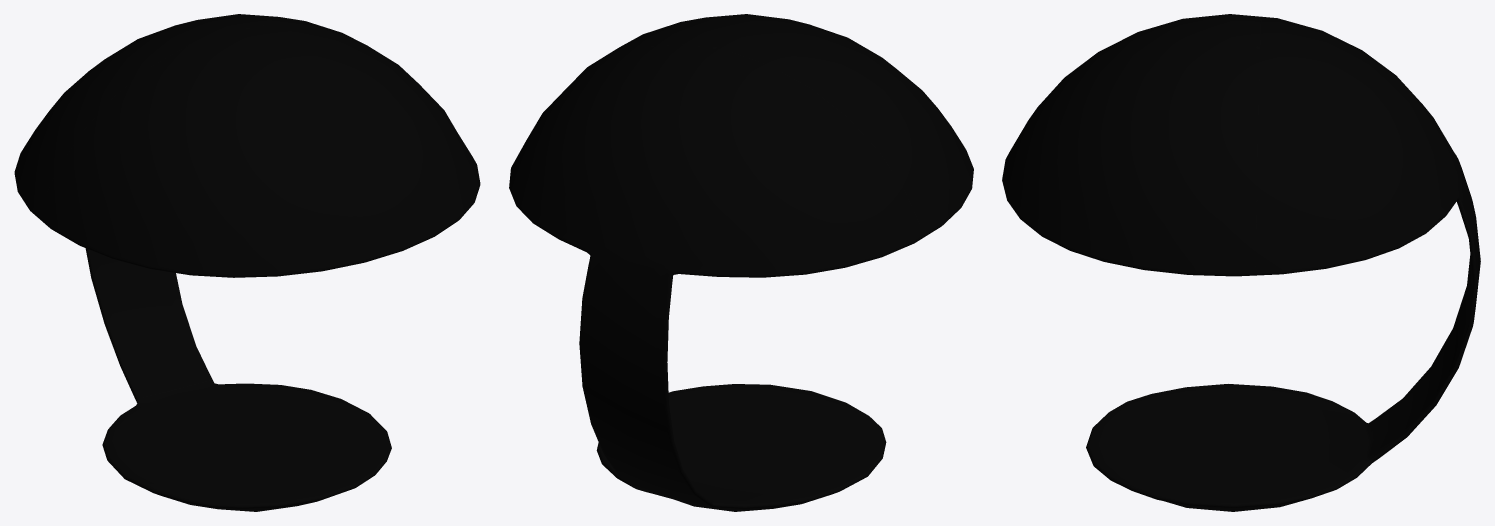
Rendered from A23DMOD_FBX.fbx.
3 views of the same model, side by side, from view 1: azimuth 30°, elevation 25°; view 2: azimuth 150°, elevation 25°; view 3: azimuth 270°, elevation 25° (orthographic).
Visible parts, largest first — view 1: A23DOBJ_001; view 2: A23DOBJ_001; view 3: A23DOBJ_001.
Part boxes in pixels (<box>): A23DOBJ_001: <box>14,14,480,511</box>; A23DOBJ_001: <box>509,14,973,511</box>; A23DOBJ_001: <box>1002,14,1480,511</box>.
Size of the model in its own units: 39.47 by 41.97 by 41.16.
2 materials, 2 textured.
